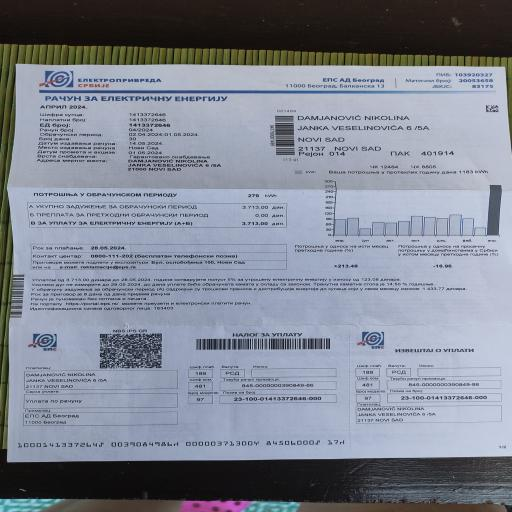racun_za_struju: (18, 186, 294, 252)
